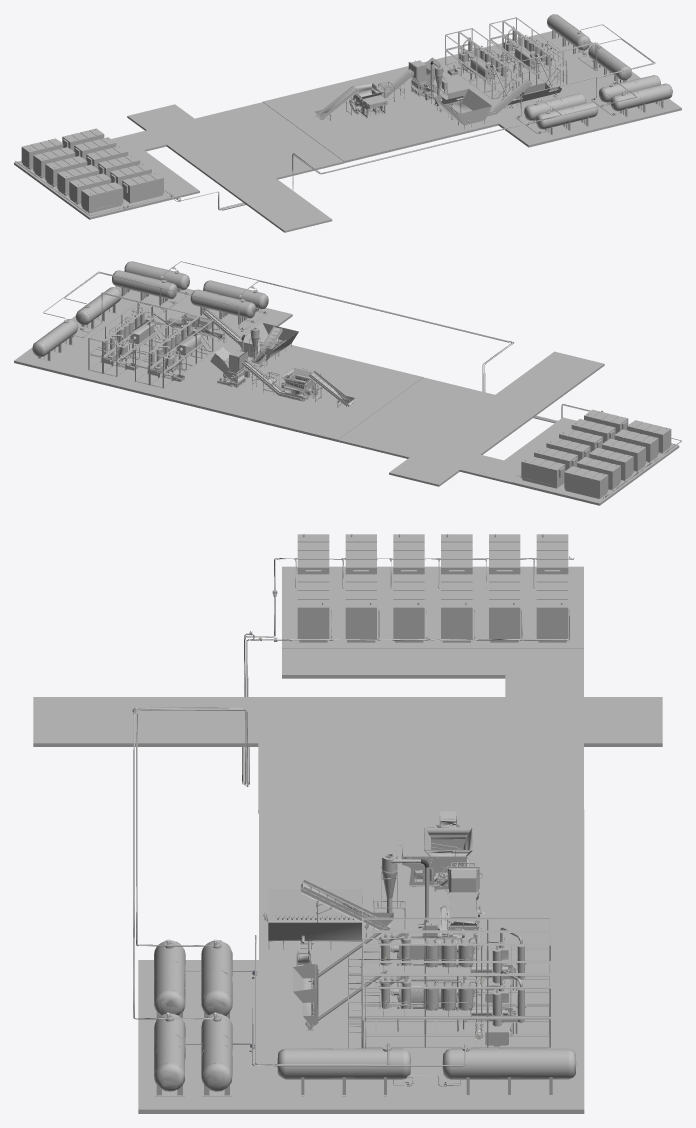
File: machinecluj-transformed.glb
3 views of the same model, one above another, from view 1: azimuth 30°, elevation 25°; view 2: azimuth 150°, elevation 25°; view 3: azimuth 270°, elevation 25° (orthographic). The views are drawn at different scales.
Parts seen in each view (by area): view 1: Solid1; view 2: Solid1; view 3: Solid1.
Part boxes in pixels (x1,y1,x2,y2): Solid1: (14,14,681,232); Solid1: (14,261,681,505); Solid1: (33,534,662,1113).
Size of the model in its own units: 82.57 by 7.77 by 40.
Materials: 9 (3 with a texture image).
